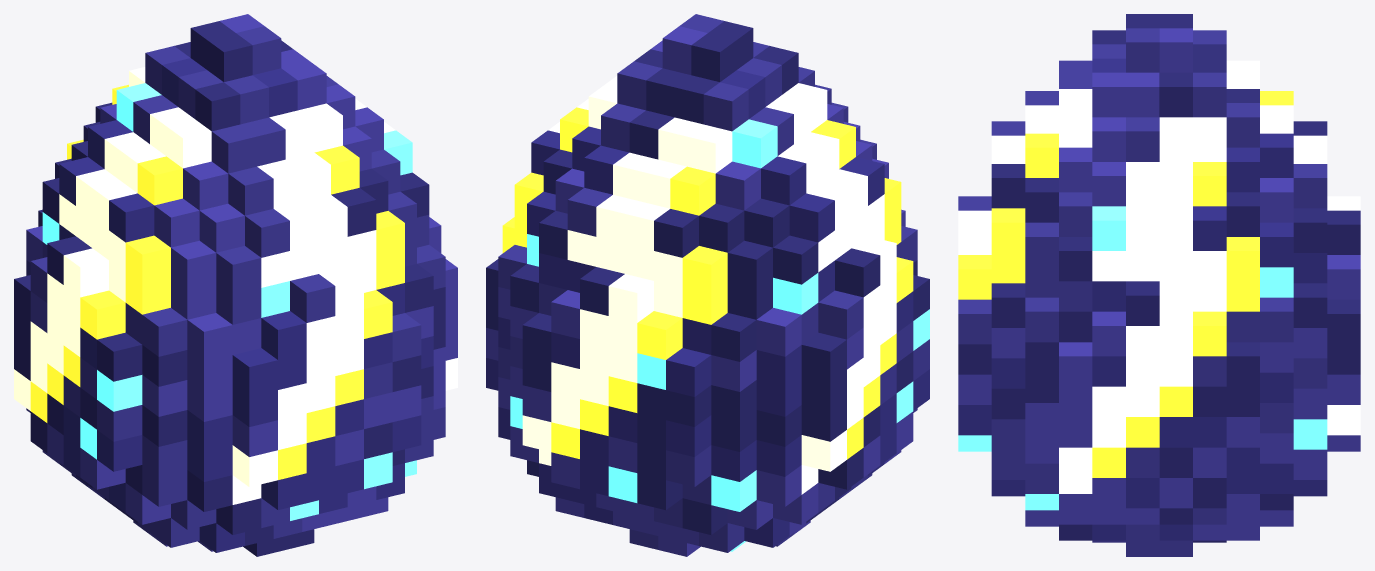
The model's file is Thunder_Egg.glb.
The picture shows the model from 3 angles, left to right: view 1: azimuth 30°, elevation 25°; view 2: azimuth 150°, elevation 25°; view 3: azimuth 270°, elevation 25°; orthographic projection.
Parts seen in each view (by area): view 1: Cube copy copy copy copy copy copy copy copy copy copy copy  (×68), Cube copy copy copy (×11), Cube copy copy copy copy copy copy (×11), Cube copy copy copy copy (×8), Cube copy copy copy copy copy (×7), Cube copy copy (×8), Cube copy copy copy copy copy copy copy copy (×7), Cube copy copy copy copy copy copy copy (×7), Cube copy copy copy copy copy copy copy copy copy (×5), Cube copy (×4), Cube copy copy copy copy copy copy copy copy copy copy copy (×3), Cube copy copy copy copy copy copy copy copy copy copy (+1 smaller); view 2: Cube copy copy copy copy copy copy copy copy copy copy copy  (×68), Cube copy copy copy copy copy (×9), Cube copy copy copy copy copy copy copy (×9), Cube copy copy copy copy (×8), Cube copy copy copy (×7), Cube copy copy copy copy copy copy copy copy (×7), Cube copy copy (×7), Cube copy copy copy copy copy copy (×7), Cube copy copy copy copy copy copy copy copy copy (×7), Cube copy copy copy copy copy copy copy copy copy copy (×5), Cube copy copy copy copy copy copy copy copy copy copy copy (×3), Cube copy (×3) (+1 smaller); view 3: Cube copy copy copy copy copy copy copy copy copy copy copy  (×96), Cube copy copy copy copy copy copy (×11), Cube copy copy copy copy (×9), Cube copy copy copy copy copy copy copy (×10), Cube copy copy copy (×10), Cube copy copy copy copy copy (×8), Cube copy copy (×6), Cube copy copy copy copy copy copy copy copy (×7), Cube copy copy copy copy copy copy copy copy copy (×6), Cube copy copy copy copy copy copy copy copy copy copy (×3), Cube copy copy copy copy copy copy copy copy copy copy copy (×3), Cube copy.
Boxes of the visible parts, bbox=[...] form: Cube copy copy copy copy copy copy copy copy copy copy copy  (×68): bbox=[26, 21, 445, 552]; Cube copy copy copy (×11): bbox=[63, 248, 392, 502]; Cube copy copy copy copy copy copy (×11): bbox=[30, 264, 433, 486]; Cube copy copy copy copy (×8): bbox=[30, 267, 421, 496]; Cube copy copy copy copy copy (×7): bbox=[30, 308, 421, 456]; Cube copy copy (×8): bbox=[14, 236, 392, 510]; Cube copy copy copy copy copy copy copy copy (×7): bbox=[63, 260, 392, 506]; Cube copy copy copy copy copy copy copy (×7): bbox=[63, 369, 421, 479]; Cube copy copy copy copy copy copy copy copy copy (×5): bbox=[125, 230, 433, 465]; Cube copy (×4): bbox=[30, 290, 306, 452]; Cube copy copy copy copy copy copy copy copy copy copy copy (×3): bbox=[42, 178, 347, 287]; Cube copy copy copy copy copy copy copy copy copy copy: bbox=[376, 211, 404, 259]; Cube copy copy copy copy copy copy copy copy copy copy copy  (×68): bbox=[510, 21, 884, 552]; Cube copy copy copy copy copy (×9): bbox=[522, 226, 917, 502]; Cube copy copy copy copy copy copy copy (×9): bbox=[522, 313, 913, 456]; Cube copy copy copy copy (×8): bbox=[522, 267, 846, 510]; Cube copy copy copy (×7): bbox=[551, 236, 929, 489]; Cube copy copy copy copy copy copy copy copy (×7): bbox=[551, 318, 756, 486]; Cube copy copy (×7): bbox=[551, 248, 913, 476]; Cube copy copy copy copy copy copy (×7): bbox=[498, 245, 913, 426]; Cube copy copy copy copy copy copy copy copy copy (×7): bbox=[580, 178, 901, 504]; Cube copy copy copy copy copy copy copy copy copy copy (×5): bbox=[514, 172, 756, 511]; Cube copy copy copy copy copy copy copy copy copy copy copy (×3): bbox=[527, 191, 818, 294]; Cube copy (×3): bbox=[818, 257, 913, 489]; Cube copy copy copy copy copy copy copy copy copy copy copy  (×96): bbox=[991, 14, 1327, 556]; Cube copy copy copy copy copy copy (×11): bbox=[958, 283, 1360, 477]; Cube copy copy copy copy (×9): bbox=[958, 210, 1360, 508]; Cube copy copy copy copy copy copy copy (×10): bbox=[958, 311, 1360, 477]; Cube copy copy copy (×10): bbox=[958, 196, 1360, 508]; Cube copy copy copy copy copy (×8): bbox=[958, 196, 1360, 447]; Cube copy copy (×6): bbox=[958, 255, 1360, 508]; Cube copy copy copy copy copy copy copy copy (×7): bbox=[991, 281, 1293, 493]; Cube copy copy copy copy copy copy copy copy copy (×6): bbox=[991, 251, 1293, 493]; Cube copy copy copy copy copy copy copy copy copy copy (×3): bbox=[991, 208, 1293, 297]; Cube copy copy copy copy copy copy copy copy copy copy copy (×3): bbox=[1092, 222, 1293, 281]; Cube copy: bbox=[1092, 311, 1125, 356].
Size of the model in its own units: 1.2 by 1.6 by 1.2.
